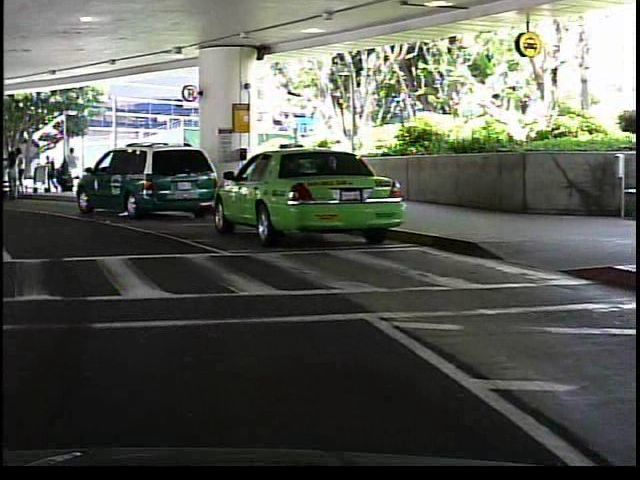person: (2, 150, 20, 201)
